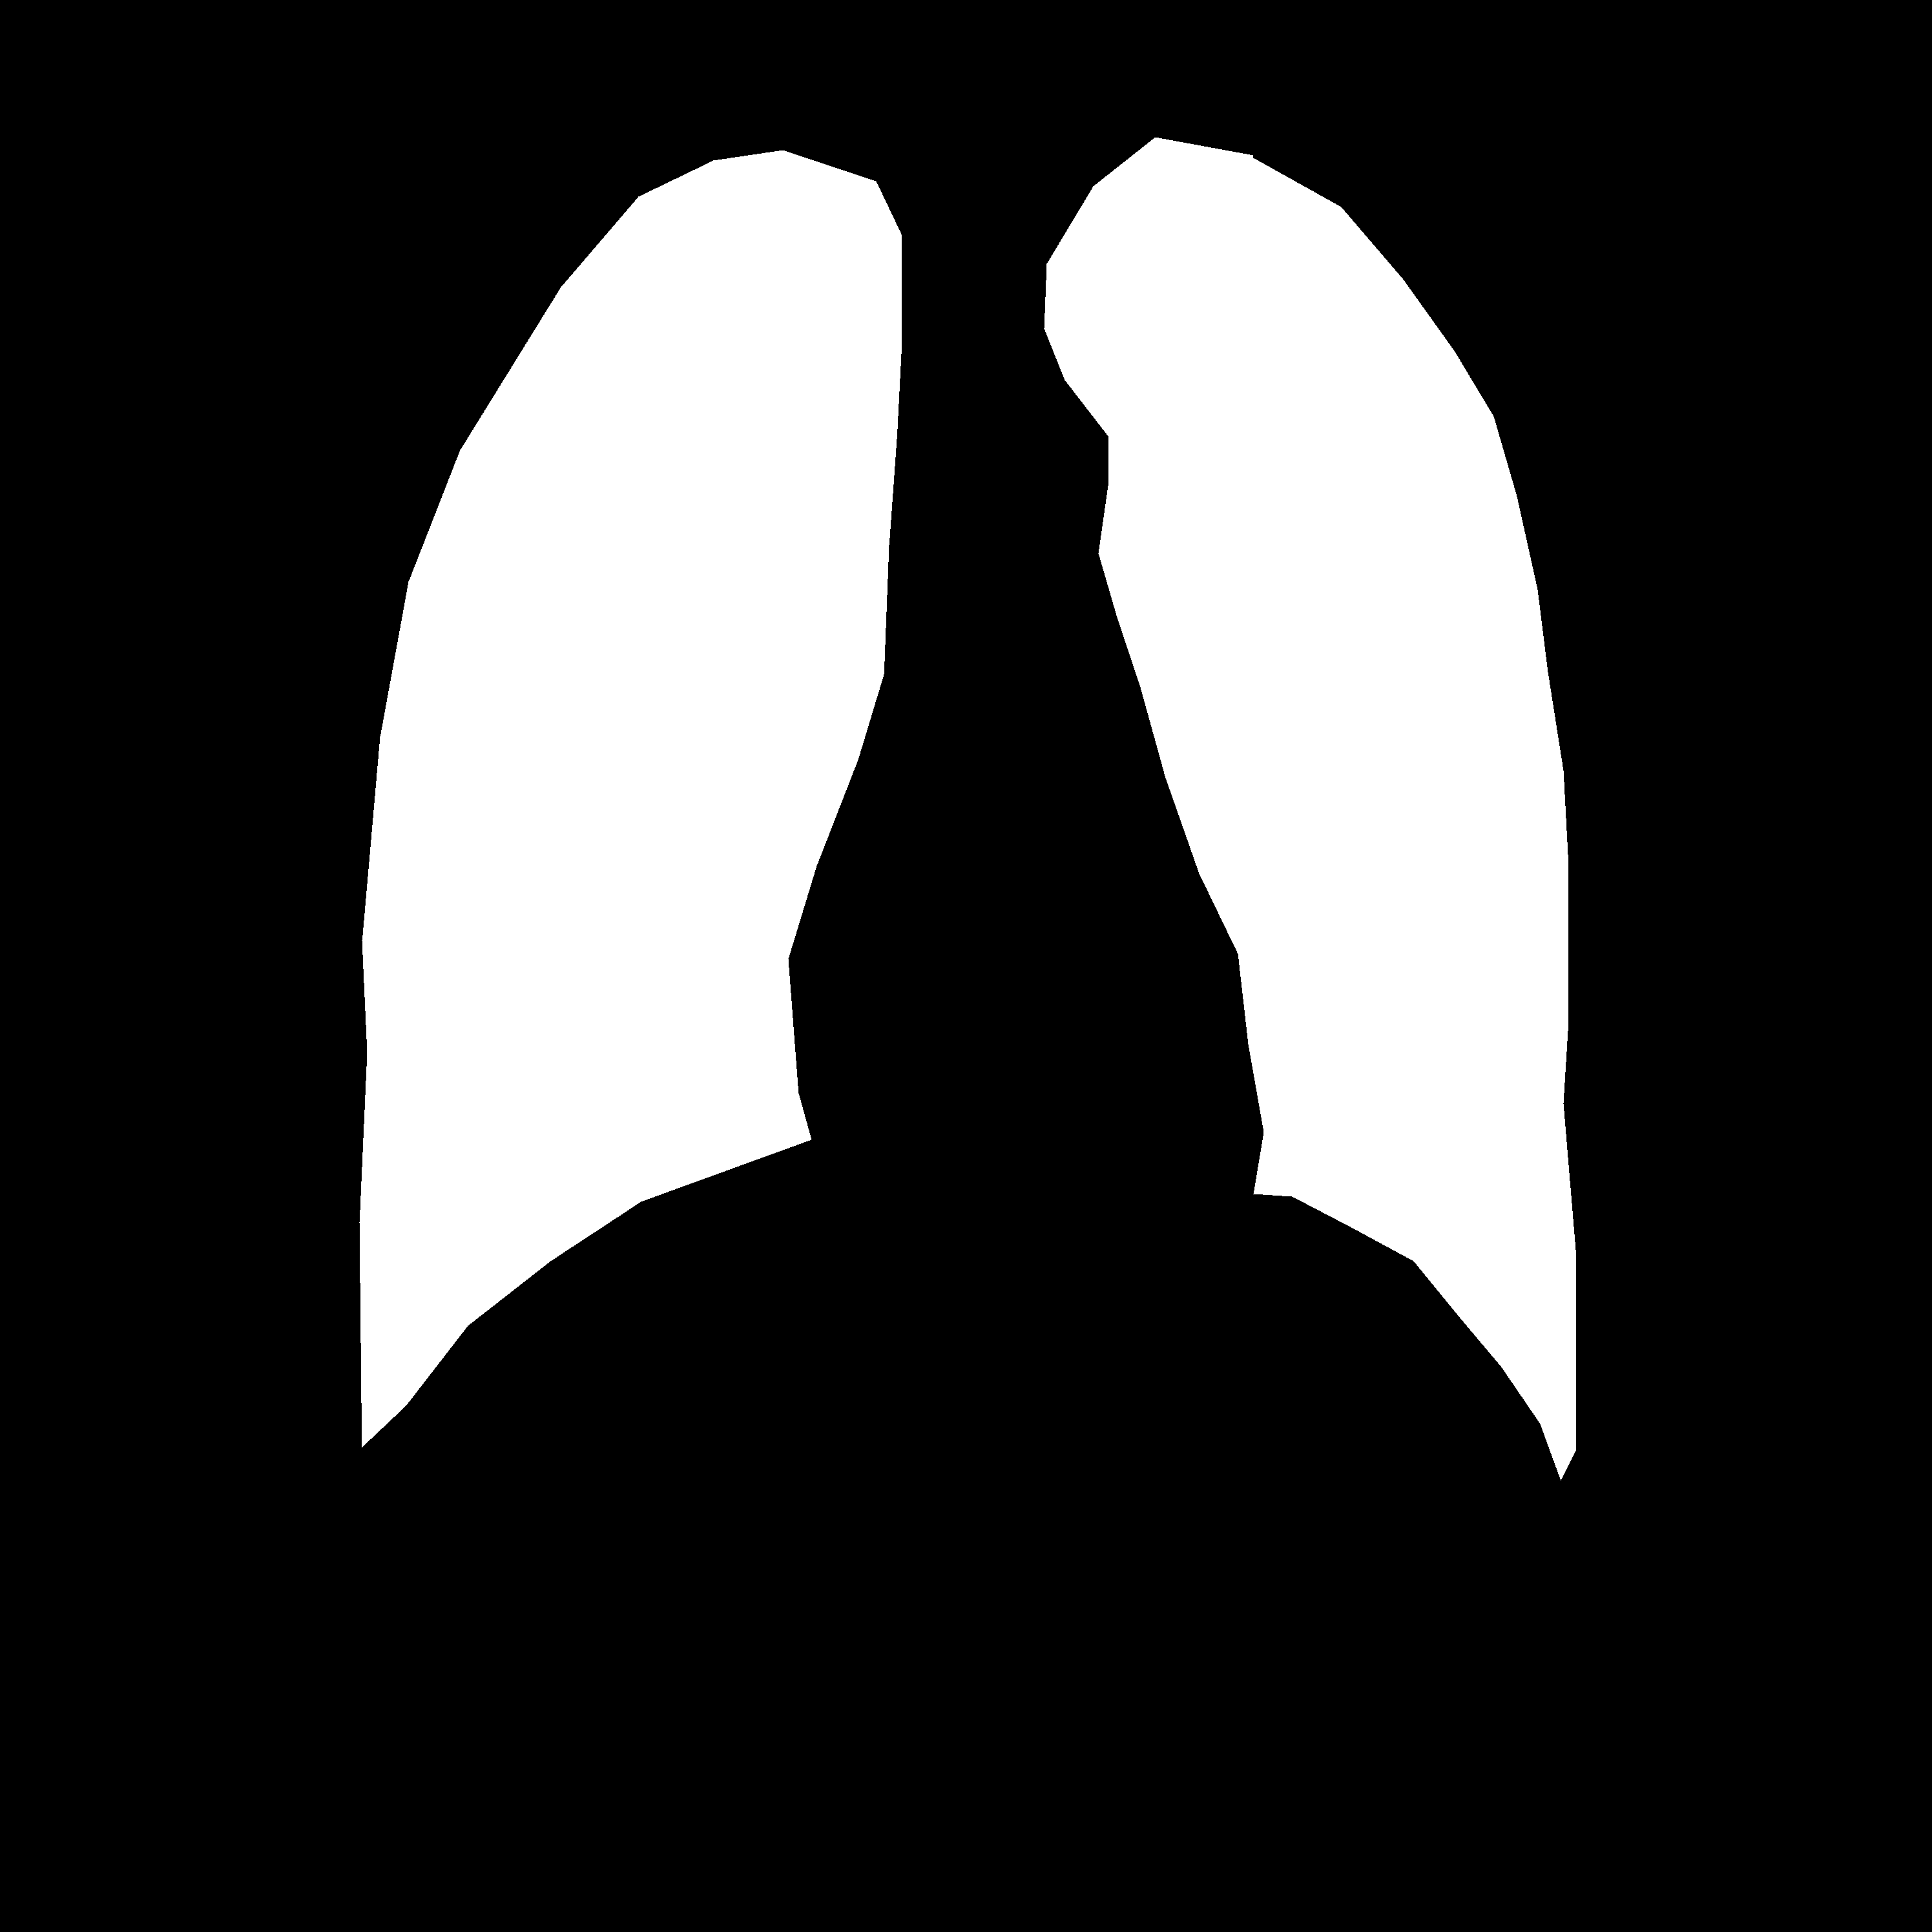heart: (787, 754, 1270, 1272)
left_lung: (359, 150, 901, 1447)
right_lung: (1044, 138, 1576, 1481)
